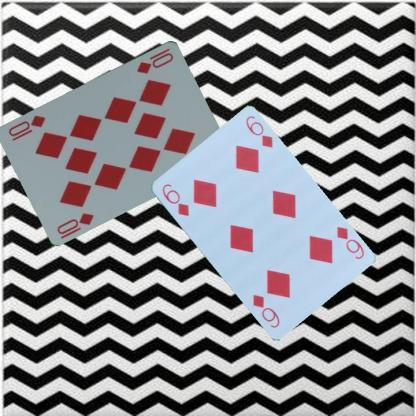10d: (54, 210, 96, 240), (134, 45, 175, 75)
6d: (334, 223, 366, 261), (159, 180, 190, 218)
